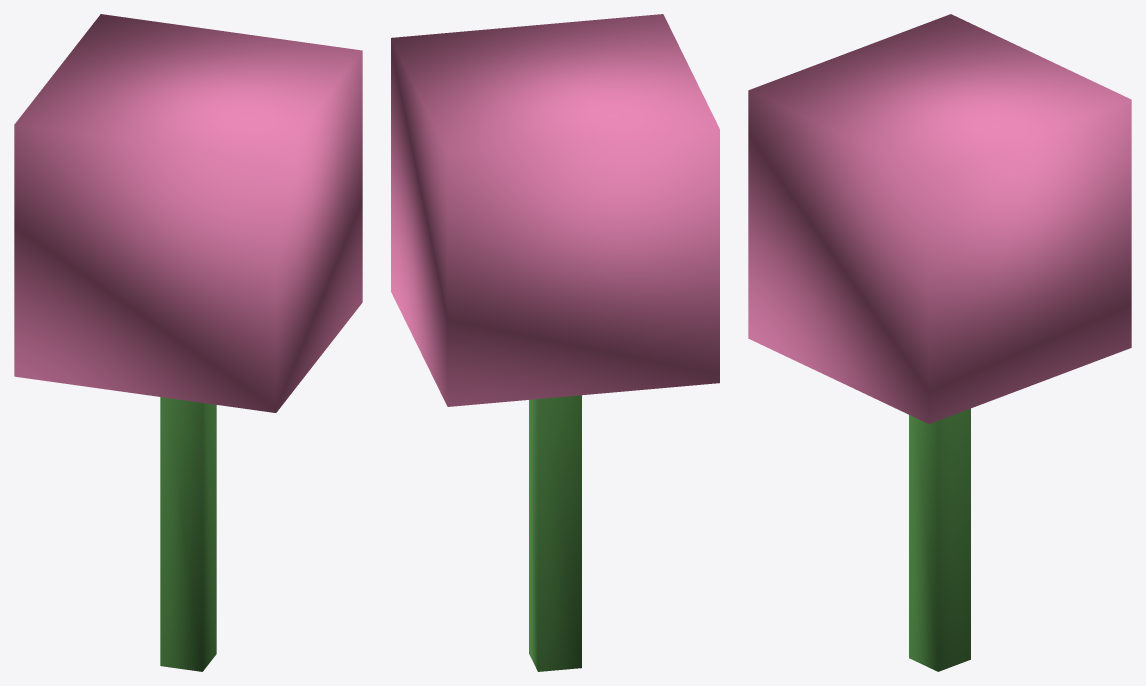
File: Grass_01.fbx
3 renders of one model, left to right at view 1: azimuth 30°, elevation 25°; view 2: azimuth 150°, elevation 25°; view 3: azimuth 270°, elevation 25°, orthographic. The views are drawn at different scales.
Parts seen in each view (by area): view 1: Grass_01; view 2: Grass_01; view 3: Grass_01.
Part boxes in pixels (x1,y1,x2,y2): Grass_01: [14, 14, 362, 671]; Grass_01: [391, 14, 719, 671]; Grass_01: [748, 14, 1131, 671].
Bounding box in the file's own units: 55.39 × 89.87 × 55.39.
